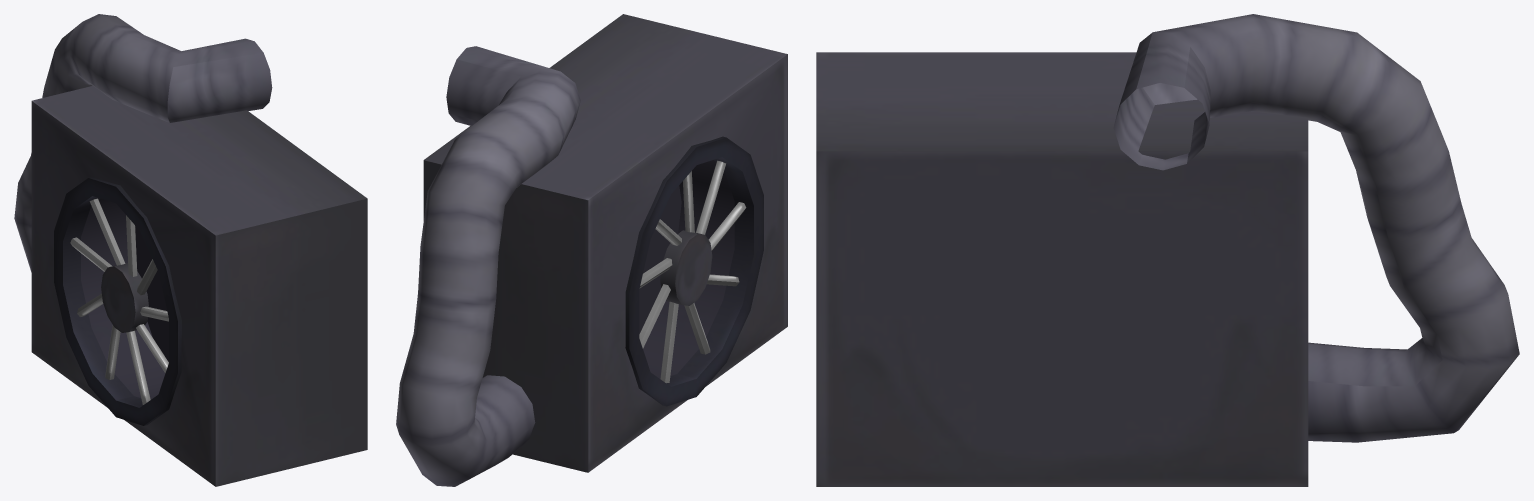
Rendered from S1_mod_Ventilator_001.fbx.
The picture shows the model from 3 angles, left to right: view 1: azimuth 30°, elevation 25°; view 2: azimuth 150°, elevation 25°; view 3: azimuth 270°, elevation 25°; orthographic projection. The views are drawn at different scales.
Visible parts, largest first — view 1: S1_mod_Ventilator_001; view 2: S1_mod_Ventilator_001; view 3: S1_mod_Ventilator_001.
Part boxes in pixels (left/top/right/bottom): S1_mod_Ventilator_001: left=14, top=14, right=367, bottom=486; S1_mod_Ventilator_001: left=396, top=14, right=787, bottom=486; S1_mod_Ventilator_001: left=816, top=14, right=1519, bottom=486.
Size of the model in its own units: 71.7 by 122 by 186.
